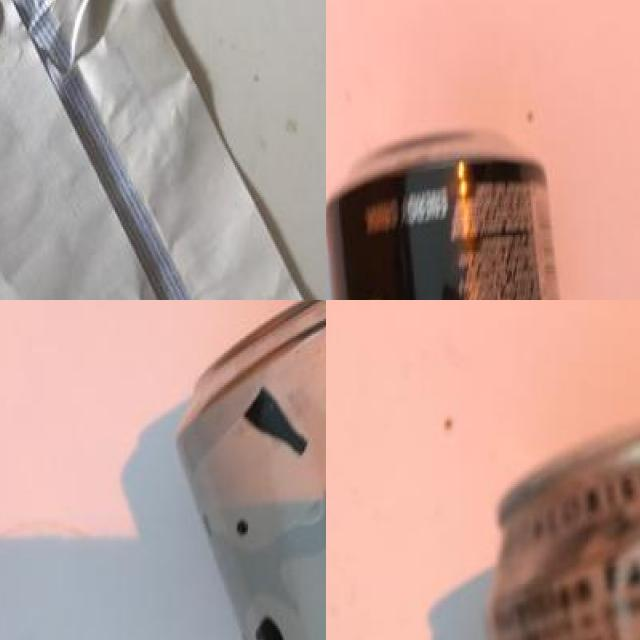paper: (0, 0, 326, 300)
plastic: (178, 300, 326, 640), (326, 126, 607, 300), (501, 405, 640, 640)
